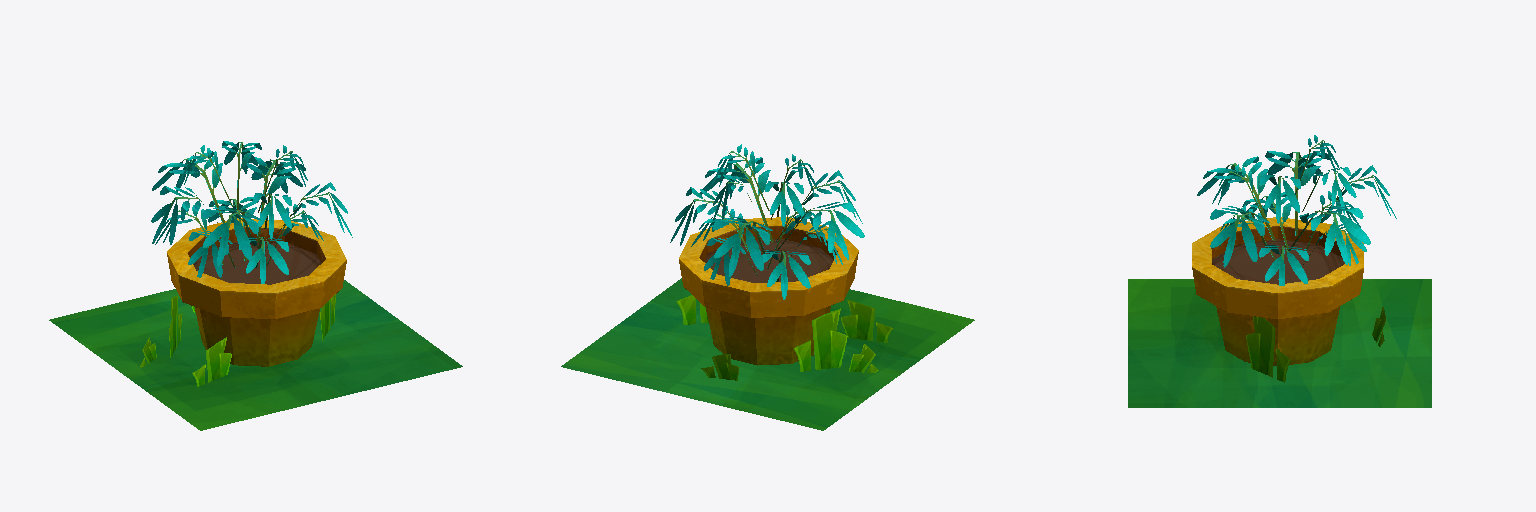
3 renders of one model, left to right at view 1: azimuth 30°, elevation 25°; view 2: azimuth 150°, elevation 25°; view 3: azimuth 270°, elevation 25°, orthographic.
Parts seen in each view (by area): view 1: Stylizedplants_model; view 2: Stylizedplants_model; view 3: Stylizedplants_model.
Part boxes in pixels (x1,y1,x2,y2): Stylizedplants_model: (49, 141, 462, 430); Stylizedplants_model: (561, 144, 974, 430); Stylizedplants_model: (1128, 135, 1431, 407).
Size of the model in its own units: 45.19 by 32.29 by 45.19.
1 materials, 1 textured.